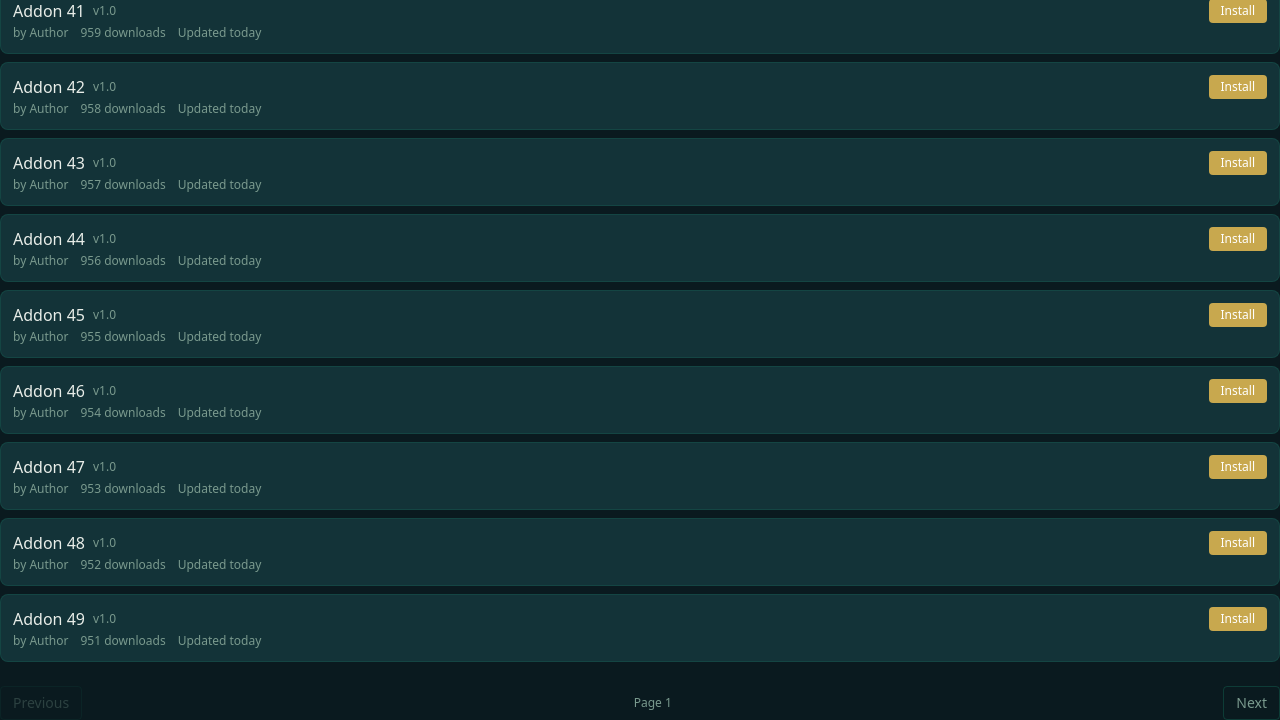
Scenario: BrowsePage pagination › resets to page 1 when the search query changes
(page scrolled)
Click the button "Next" at point(1252, 703), box top-left (1223, 686), bottom-right (1279, 719)
(page scrolled)
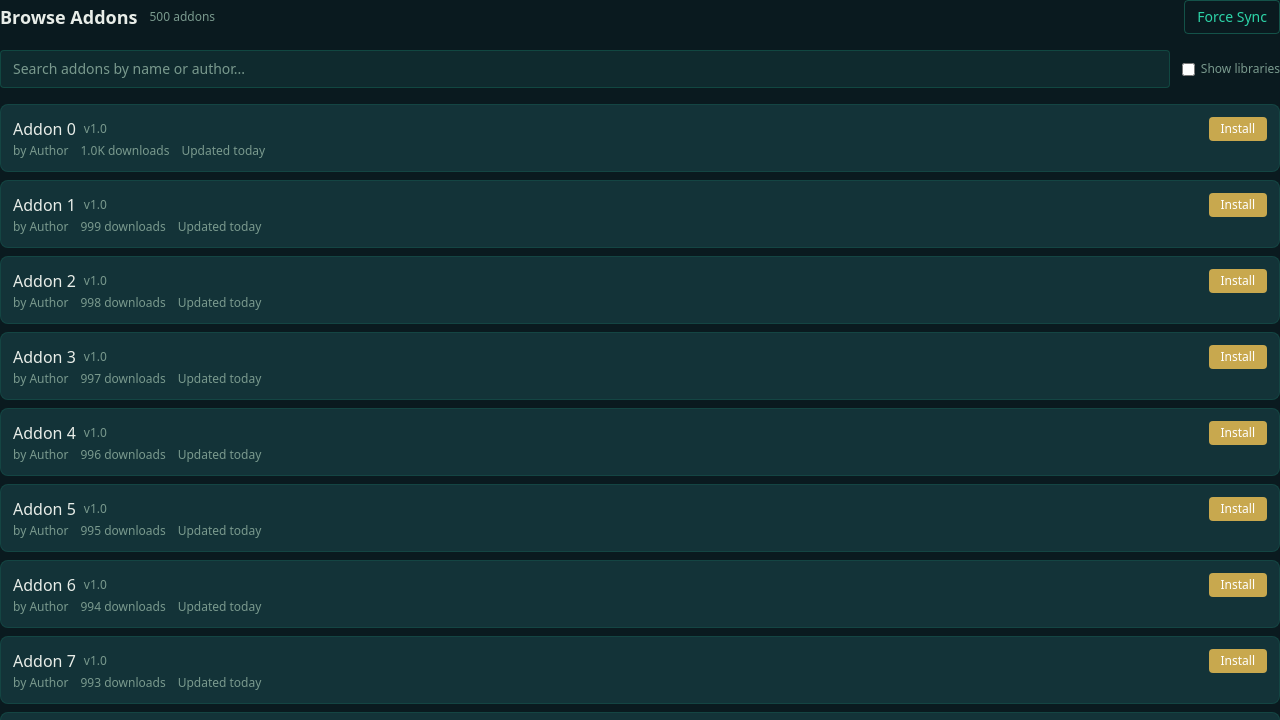
Type "map" into the field with placeholder "Search addons by name or author..." at point(585, 69), box top-left (0, 50), bottom-right (1170, 88)
(page scrolled)
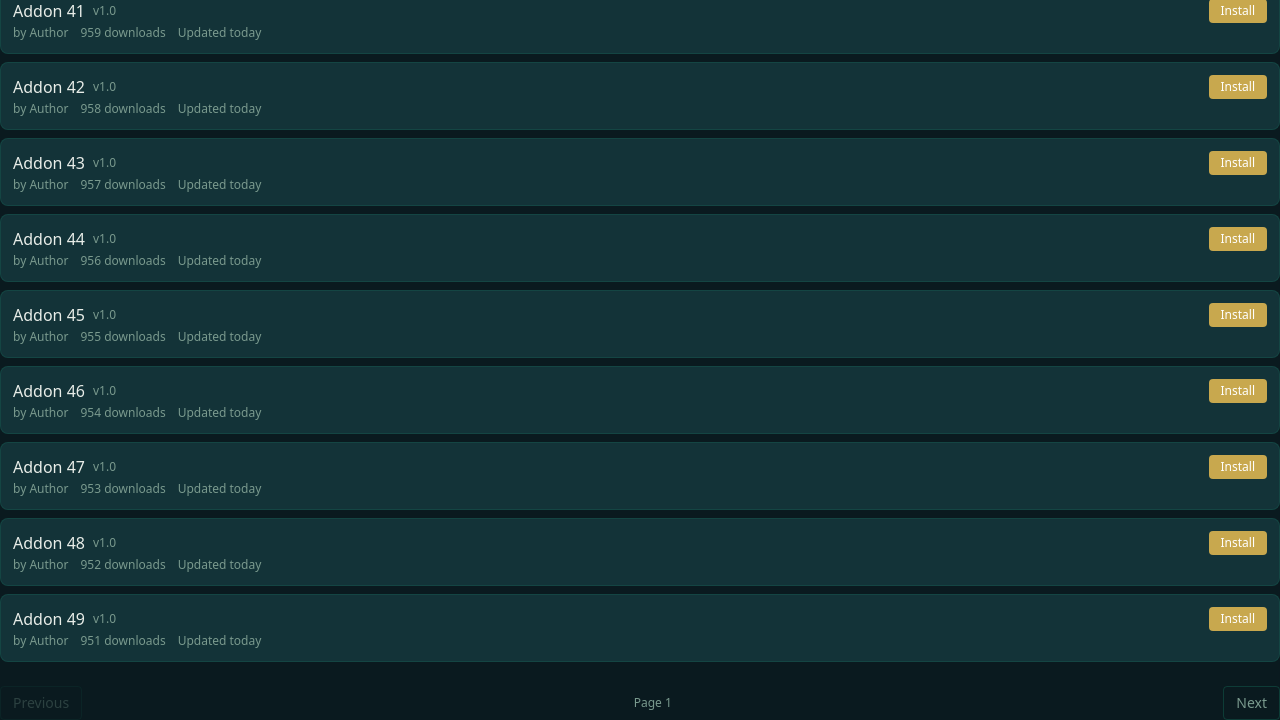
Expected: the text "Page 1" is shown, top-left (634, 695), bottom-right (672, 711)
